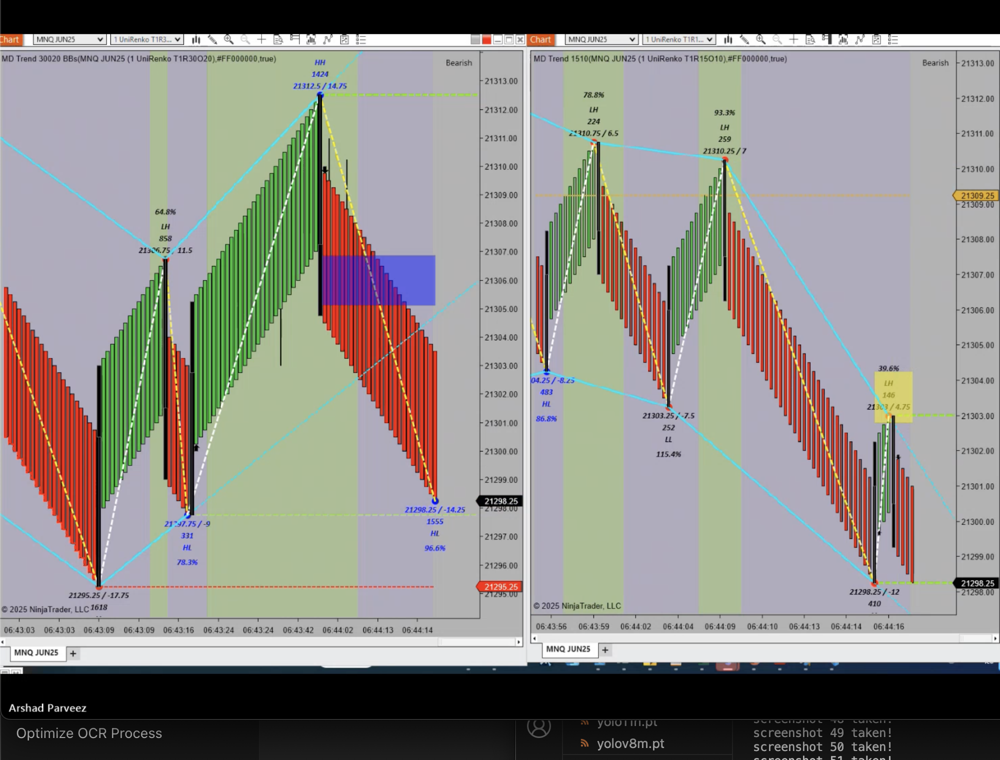HH: (308, 52, 334, 70)
HL: (531, 396, 559, 415), (175, 537, 200, 558), (422, 524, 447, 543)
LH: (715, 118, 737, 137), (153, 220, 179, 236), (881, 372, 900, 393), (584, 102, 606, 117)
LL: (660, 430, 681, 450)
